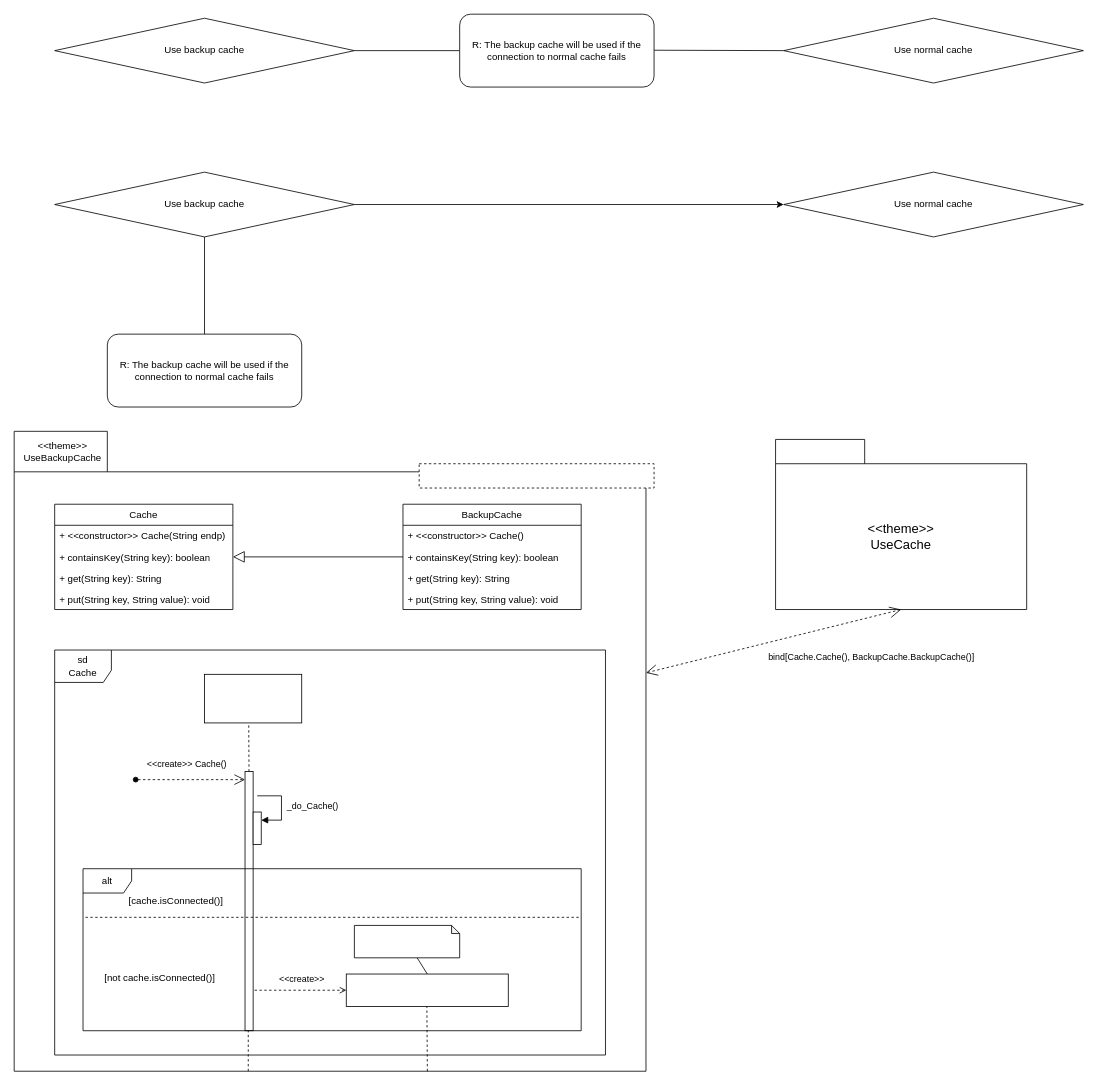
Image size: 1098x1086. Some labels were removed from this diagram. The shapes that lost their labels are listed below. From the top down, each one's centre as x and y in pixels, then its label:
the point at 536,475: <Cache.Cache(), BackupCache.BackupCache()>
the point at 253,698: cache: Cache
the point at 407,941: cache = backupCache
the point at 426,989: backupCache: BackupCache
